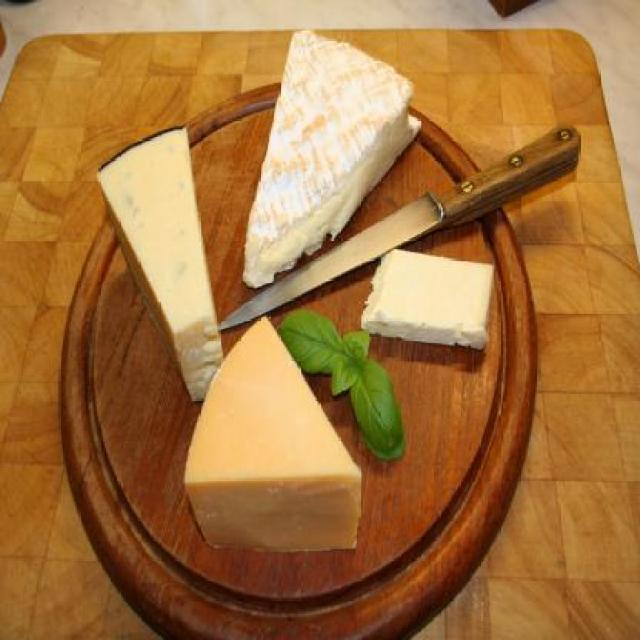Cheese: (242, 26, 420, 286), (180, 308, 362, 554), (94, 123, 224, 403), (360, 246, 492, 352)
